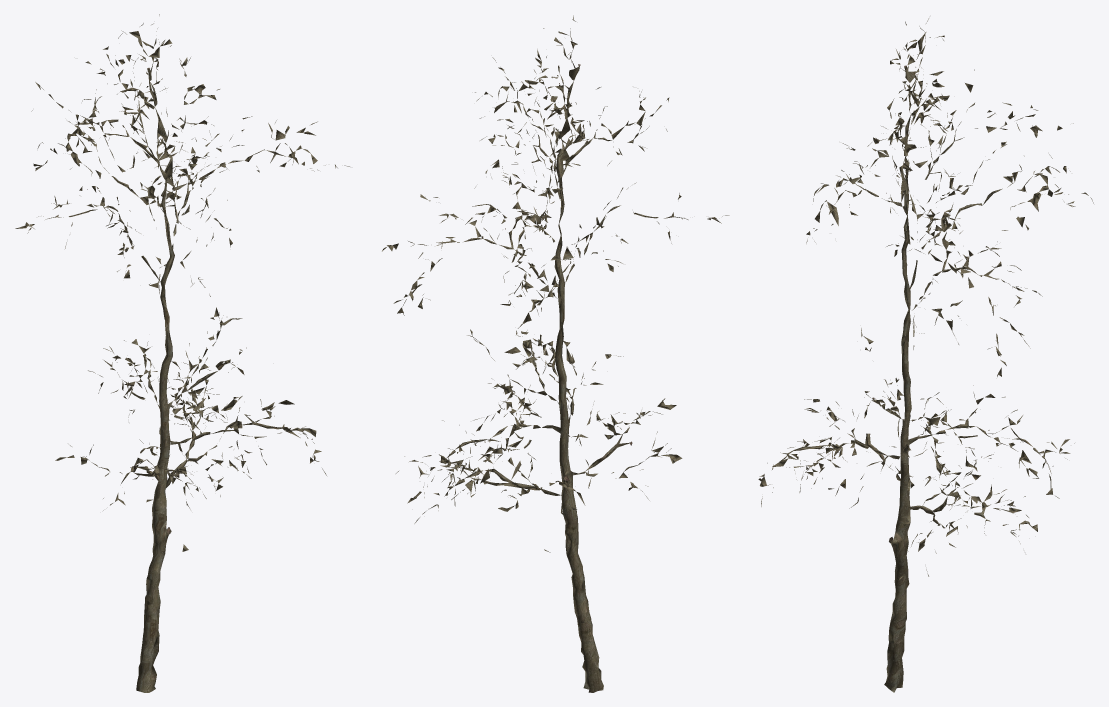
Rendered from tree_dead_bare.glb.
3 renders of one model, left to right at view 1: azimuth 30°, elevation 25°; view 2: azimuth 150°, elevation 25°; view 3: azimuth 270°, elevation 25°, orthographic.
Parts seen in each view (by area): view 1: Bark_Mat; view 2: Bark_Mat; view 3: Bark_Mat.
Part boxes in pixels (left/top/right/bottom): Bark_Mat: left=15, top=14, right=349, bottom=692; Bark_Mat: left=382, top=15, right=729, bottom=692; Bark_Mat: left=758, top=18, right=1093, bottom=692.
Size of the model in its own units: 6.82 by 14.82 by 6.69.
Materials: 2 (2 with a texture image).
